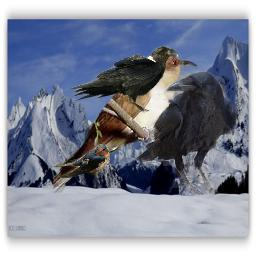Crow: (136, 71, 237, 195), (69, 45, 180, 114)
Cuckoo: (53, 53, 198, 193)
Swallow: (49, 144, 110, 178)
